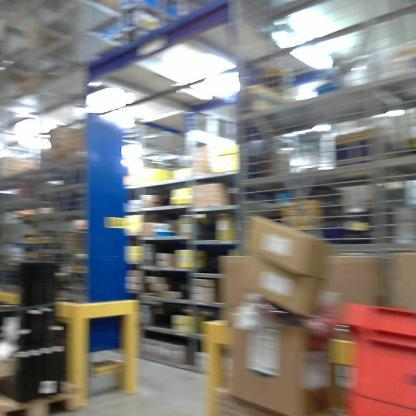pallets: (0, 386, 89, 415)
